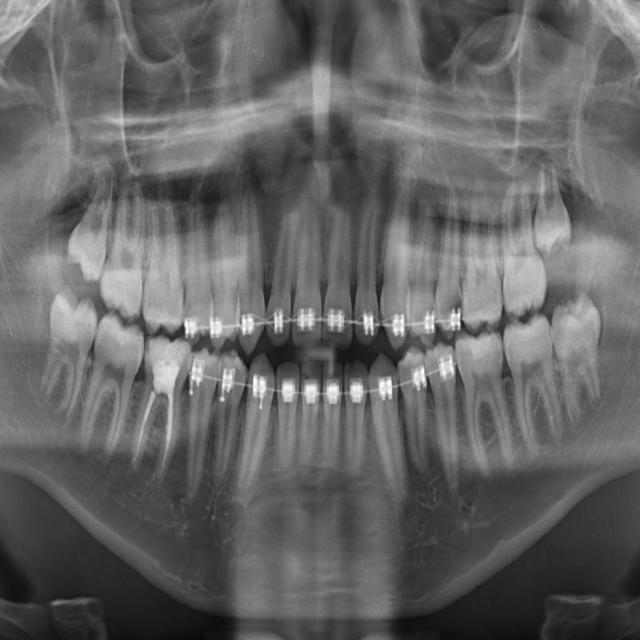CompositeResinRestoration: (142, 329, 188, 384), (460, 327, 500, 368)
DentalCaries: (447, 260, 464, 329), (183, 252, 197, 330)
ImpactedTooth: (551, 284, 609, 412), (43, 288, 99, 409)
RootCanalTreatment: (136, 381, 178, 486)
